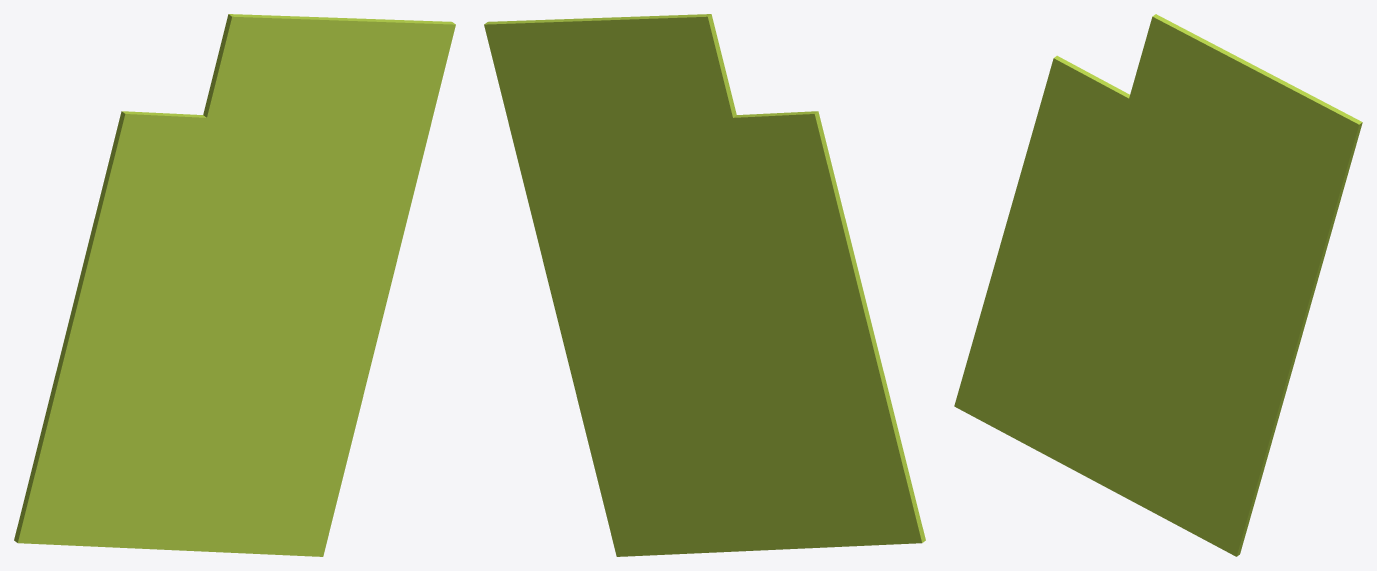
3 views of the same model, side by side, from view 1: azimuth 30°, elevation 25°; view 2: azimuth 150°, elevation 25°; view 3: azimuth 330°, elevation 25° (orthographic). The views are drawn at different scales.
Parts seen in each view (by area): view 1: osm-way27917482-F-1; view 2: osm-way27917482-F-1; view 3: osm-way27917482-F-1.
Boxes of the visible parts, bbox=[...] form: osm-way27917482-F-1: bbox=[14, 14, 455, 556]; osm-way27917482-F-1: bbox=[484, 14, 925, 556]; osm-way27917482-F-1: bbox=[954, 14, 1362, 556].
Size of the model in its own units: 10.05 by 12.32 by 0.15.
